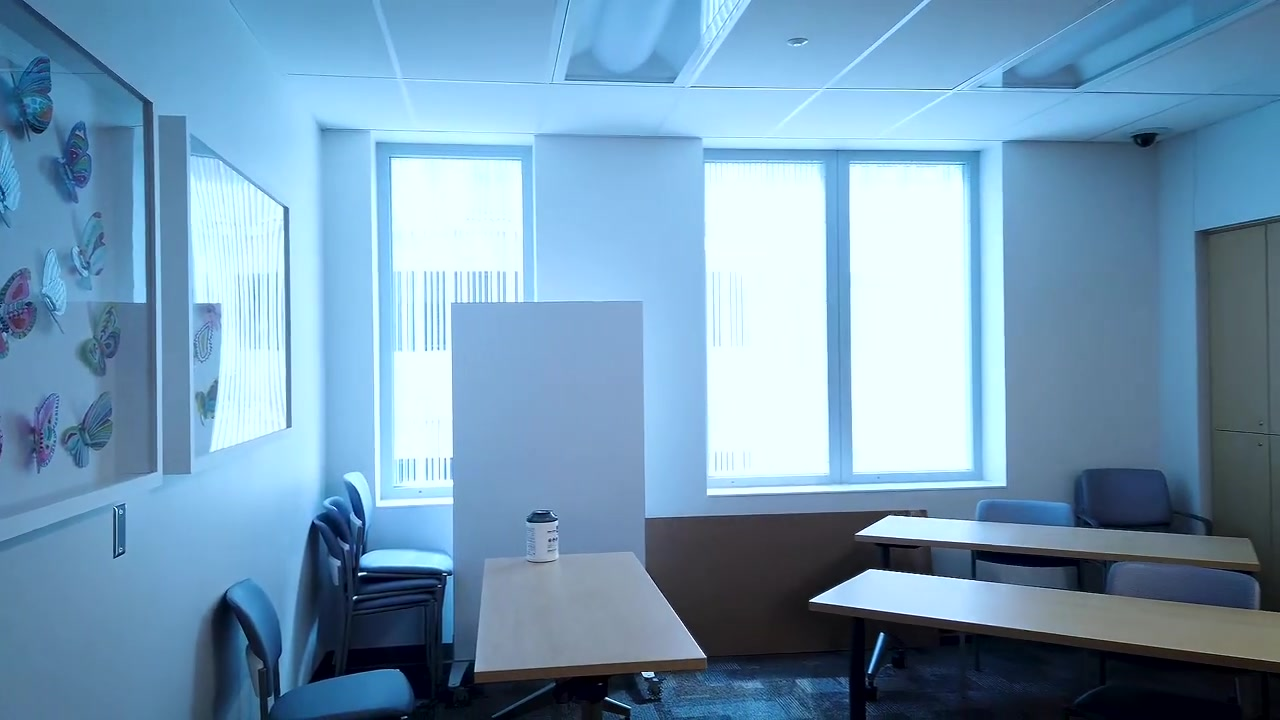chair: (1073, 468, 1218, 686), (1069, 558, 1263, 720), (223, 578, 416, 720), (336, 469, 456, 696), (321, 494, 448, 698), (309, 516, 442, 704), (968, 498, 1086, 672)
table: (854, 514, 1265, 707), (808, 567, 1280, 720), (474, 550, 708, 720)
